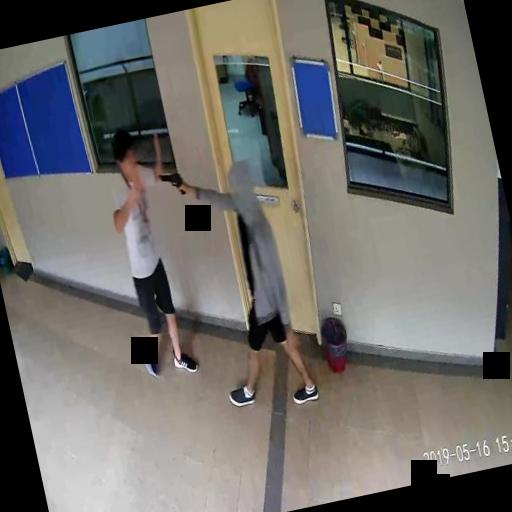Handgun: (156, 167, 184, 197)
